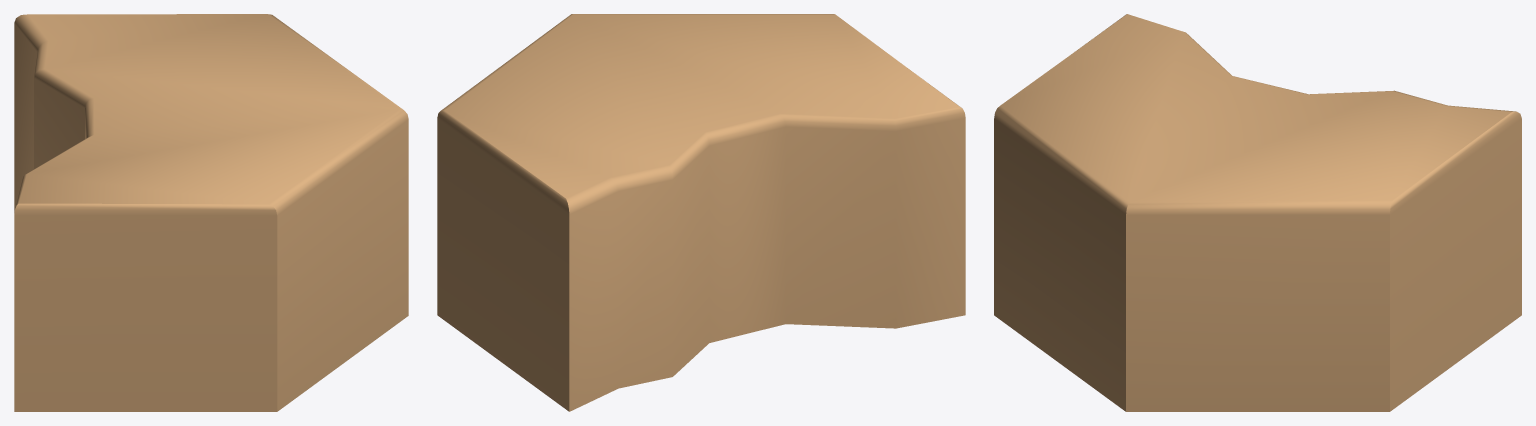
The model's file is hex_sand_waterD_empty.glb.
3 renders of one model, left to right at view 1: azimuth 30°, elevation 25°; view 2: azimuth 150°, elevation 25°; view 3: azimuth 270°, elevation 25°, orthographic.
Parts seen in each view (by area): view 1: hex_sand_waterD_empty; view 2: hex_sand_waterD_empty; view 3: hex_sand_waterD_empty.
Part boxes in pixels (x1,y1,x2,y2): hex_sand_waterD_empty: (14, 14, 408, 411); hex_sand_waterD_empty: (437, 14, 965, 411); hex_sand_waterD_empty: (994, 14, 1521, 411).
Size of the model in its own units: 2 by 1 by 2.31.
